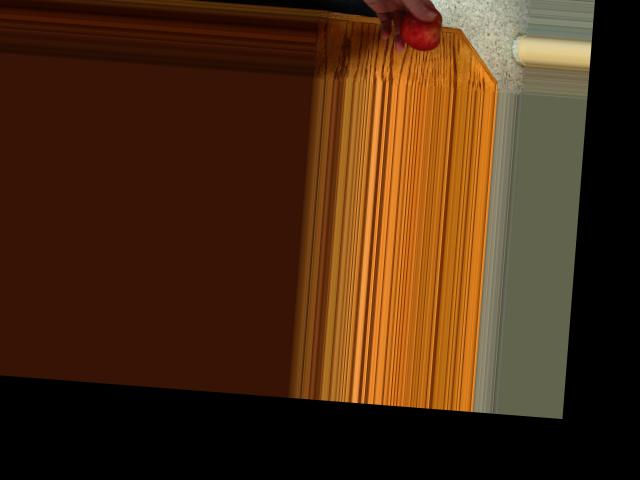apple: (398, 5, 446, 50)
